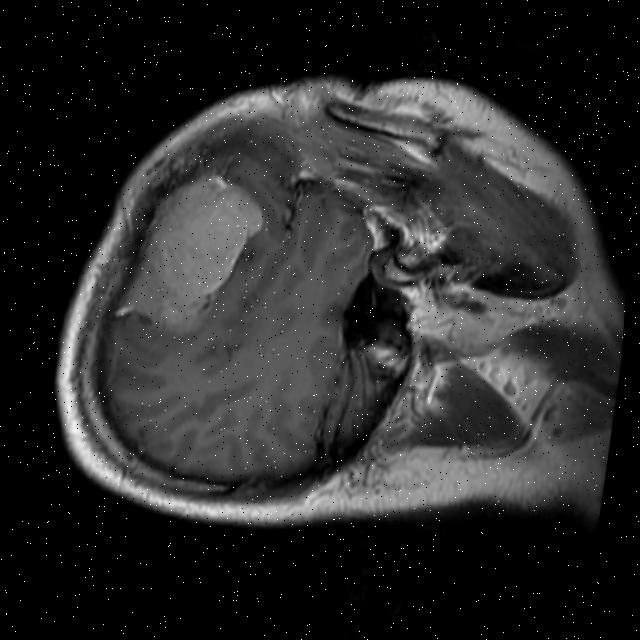Meningioma: (109, 161, 268, 338)
